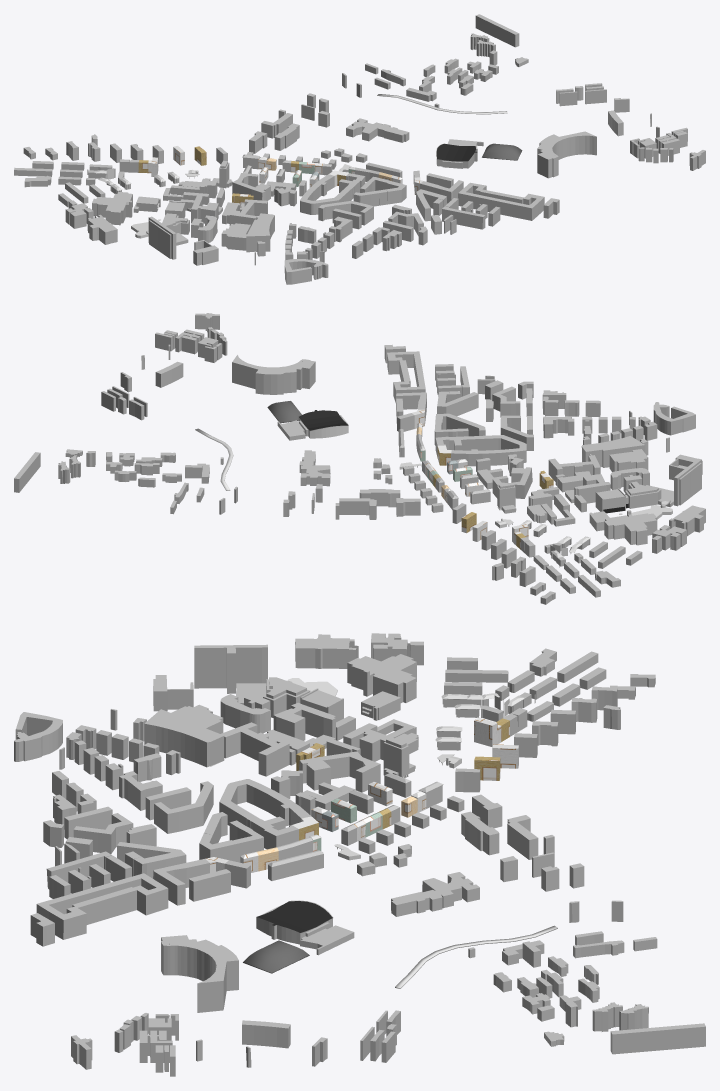
Rendered from HelsinkiPrefab.fbx.
The picture shows the model from 3 angles, top to bottom: view 1: azimuth 30°, elevation 25°; view 2: azimuth 150°, elevation 25°; view 3: azimuth 270°, elevation 25°; orthographic projection. The views are drawn at different scales.
Visible parts, largest first — view 1: 635354745, Haartmaninkatu, 8, Lastenlinnantie, 2, Nordenskiöldinkatu, 18, Haartmaninkatu, 2, Nordenskiöldinkatu, 11-13, Meilahden tornisairaala.002, Stenbäckinkatu, 9.008, Veturitie, 3, Syöpätautien klinikka, Haartmaninkatu, 4, Stenbäckinkatu, 9.003 (+6 smaller); view 2: 635354745, Haartmaninkatu, 8, Haartmaninkatu, 2, Nordenskiöldinkatu, 11-13, Lastenlinnantie, 2, Stenbäckinkatu, 9.008, Meilahden tornisairaala.002, Haartmaninkatu, 4, Nordenskiöldinkatu, 18, 103211072, Meilahden kolmiosairaala.001, Syöpätautien klinikka (+12 smaller); view 3: 635354745, Meilahden tornisairaala.002, Stenbäckinkatu, 9.008, Haartmaninkatu, 2, Haartmaninkatu, 8, Nordenskiöldinkatu, 11-13, Veturitie, 3, Haartmaninkatu, 4, Nordenskiöldinkatu, 18, Lastenlinnantie, 2, Syöpätautien klinikka, 127989498 (+27 smaller).
Boxes of the visible parts, bbox=[...] form: 635354745: bbox=[537, 131, 596, 159]; Haartmaninkatu, 8: bbox=[92, 192, 132, 225]; Lastenlinnantie, 2: bbox=[284, 259, 328, 284]; Nordenskiöldinkatu, 18: bbox=[346, 118, 409, 142]; Haartmaninkatu, 2: bbox=[222, 199, 267, 226]; Nordenskiöldinkatu, 11-13: bbox=[436, 143, 477, 168]; Meilahden tornisairaala.002: bbox=[148, 216, 176, 259]; Stenbäckinkatu, 9.008: bbox=[246, 213, 274, 252]; Veturitie, 3: bbox=[475, 14, 519, 47]; Syöpätautien klinikka: bbox=[87, 214, 117, 244]; Haartmaninkatu, 4: bbox=[180, 195, 222, 223]; Stenbäckinkatu, 9.003: bbox=[221, 223, 250, 250]; 635354745: bbox=[232, 355, 303, 394]; Haartmaninkatu, 8: bbox=[604, 510, 657, 545]; Haartmaninkatu, 2: bbox=[548, 454, 600, 492]; Nordenskiöldinkatu, 11-13: bbox=[298, 410, 348, 438]; Lastenlinnantie, 2: bbox=[653, 402, 695, 435]; Stenbäckinkatu, 9.008: bbox=[581, 436, 645, 467]; Meilahden tornisairaala.002: bbox=[674, 458, 701, 506]; Haartmaninkatu, 4: bbox=[565, 474, 610, 512]; Nordenskiöldinkatu, 18: bbox=[299, 450, 330, 486]; 103211072: bbox=[652, 525, 686, 553]; Meilahden kolmiosairaala.001: bbox=[625, 481, 661, 508]; Syöpätautien klinikka: bbox=[669, 505, 705, 536]; 635354745: bbox=[169, 939, 238, 1012]; Meilahden tornisairaala.002: bbox=[194, 644, 267, 693]; Stenbäckinkatu, 9.008: bbox=[144, 709, 224, 767]; Haartmaninkatu, 2: bbox=[221, 722, 309, 776]; Haartmaninkatu, 8: bbox=[347, 654, 416, 702]; Nordenskiöldinkatu, 11-13: bbox=[256, 900, 333, 944]; Veturitie, 3: bbox=[610, 1023, 705, 1054]; Haartmaninkatu, 4: bbox=[273, 702, 355, 748]; Nordenskiöldinkatu, 18: bbox=[391, 872, 479, 916]; Lastenlinnantie, 2: bbox=[14, 712, 62, 761]; Syöpätautien klinikka: bbox=[295, 634, 356, 668]; 127989498: bbox=[330, 751, 380, 792].
Bounding box in the file's own units: 163345 × 7388 × 112860.
